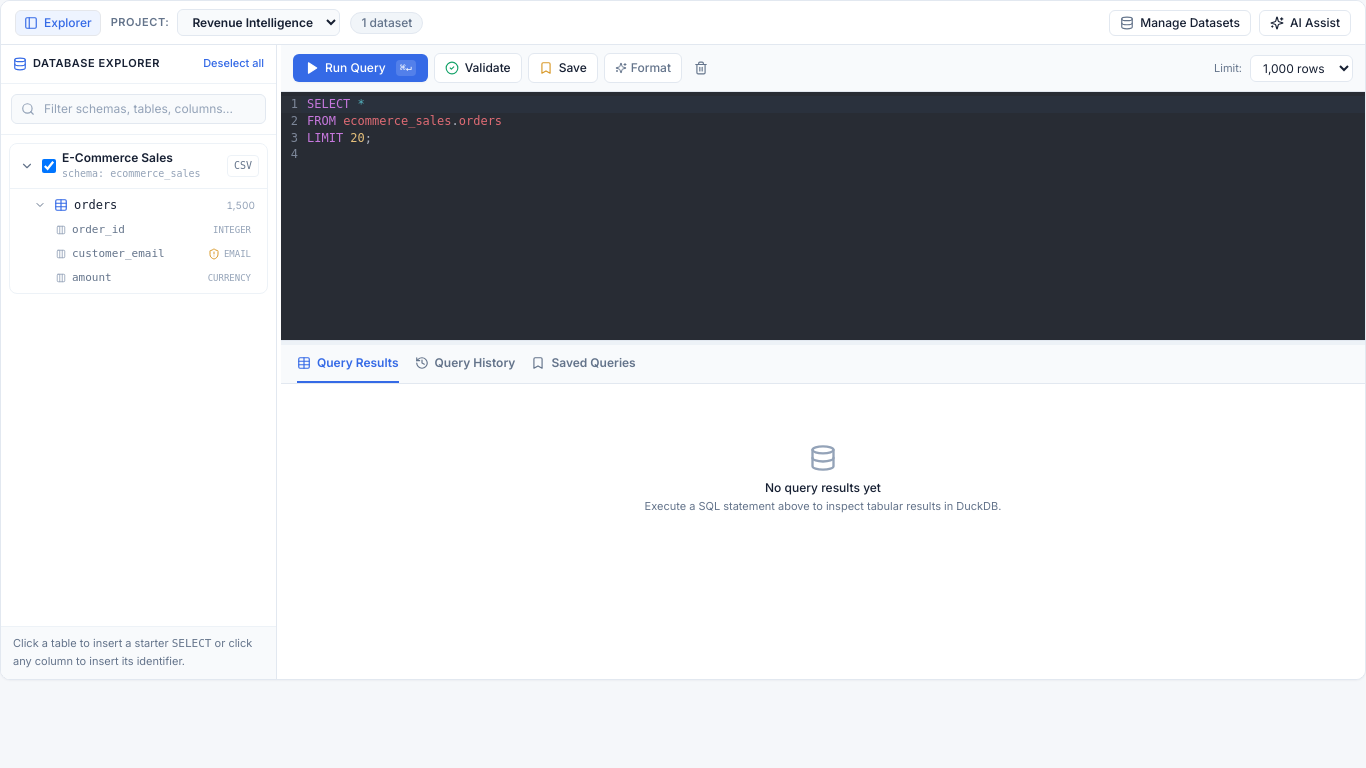
Test: AnalyticsWorkspacePage › validates SQL query and shows validation errors on invalid queries
Expected: the text "E-Commerce Sales" is shown, 62,150 -> 173,165
Click the button "Validate".
click(478, 68)  # box 434,53 -> 522,83
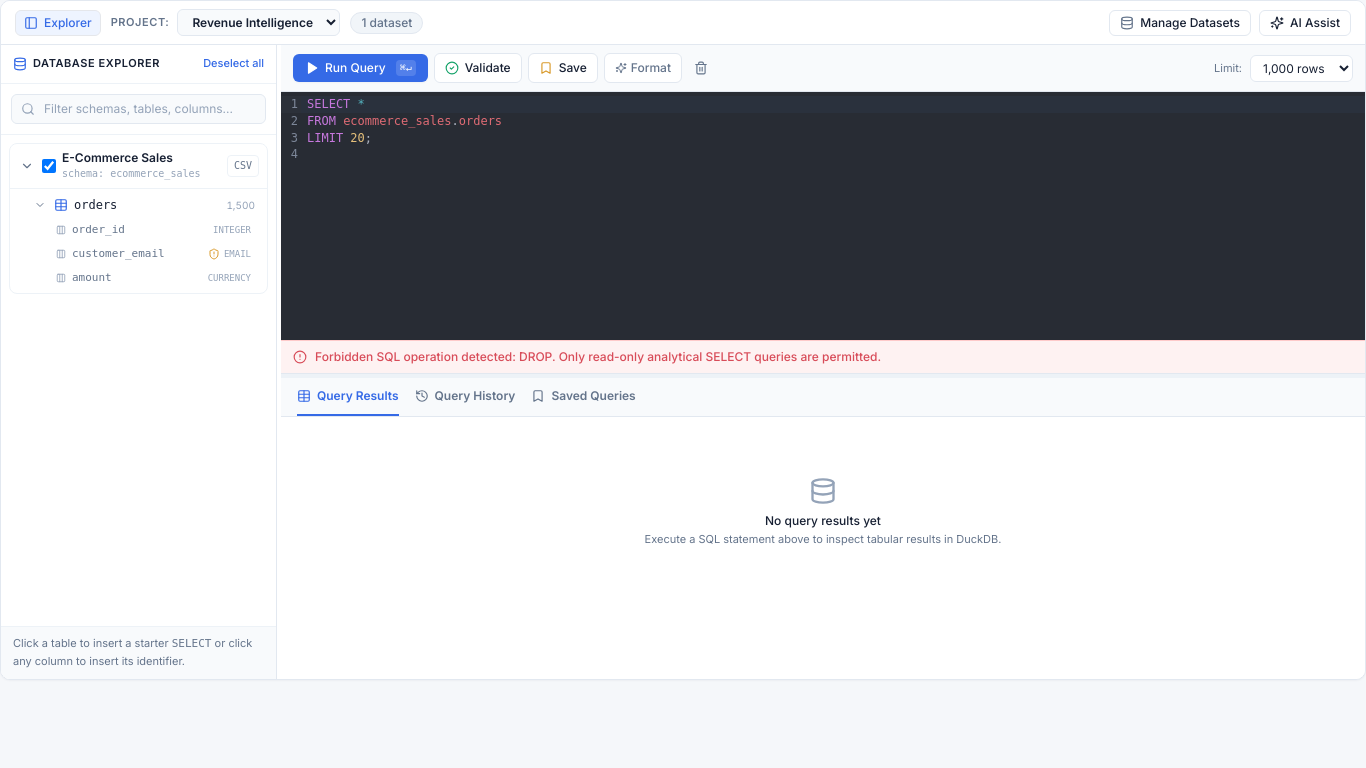
Expected: the text "Forbidden SQL operation detected: DROP" is shown, 315,349 -> 881,364
